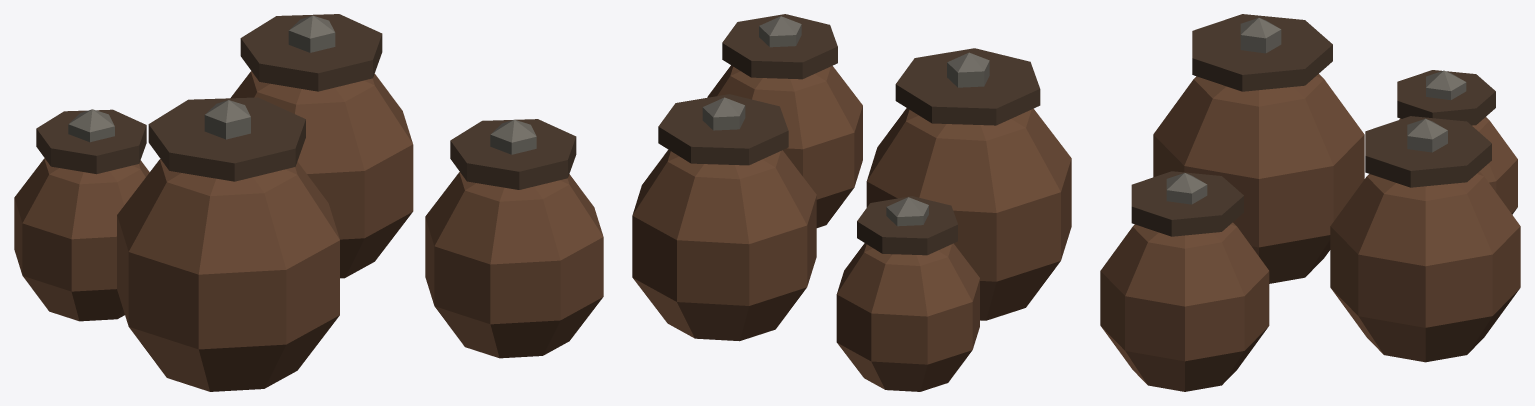
Rendered from harbor_jar.glb.
The picture shows the model from 3 angles, left to right: view 1: azimuth 30°, elevation 25°; view 2: azimuth 150°, elevation 25°; view 3: azimuth 270°, elevation 25°; orthographic projection. The views are drawn at different scales.
Visible parts, largest first — view 1: harbor_jar; view 2: harbor_jar; view 3: harbor_jar.
Boxes of the visible parts, x1,y1,x2,y2 form: harbor_jar: (14,14,603,391); harbor_jar: (632,14,1071,391); harbor_jar: (1100,14,1520,391).
Bounding box in the file's own units: 1.23 × 0.78 × 1.14.
